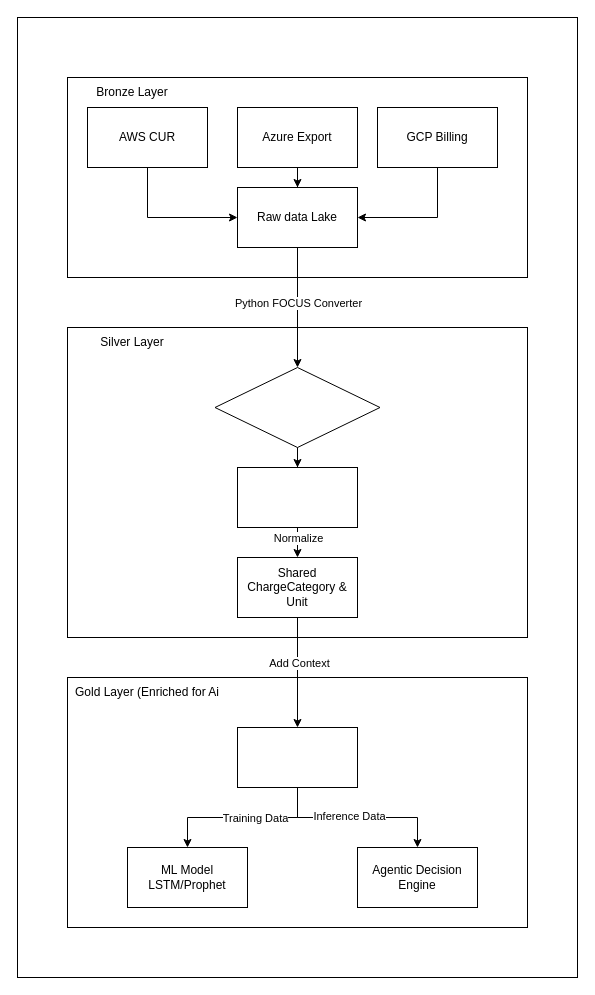
The diagram is 595 pixels wide and 995 high, and some of its shapes have lost their labels. Each missing label, with the centre of its shape:
"Enriched Data Warehouse" goes at point 297,757.
"FOCUS Converter" goes at point 297,407.
"Standardized Schema" goes at point 297,497.
